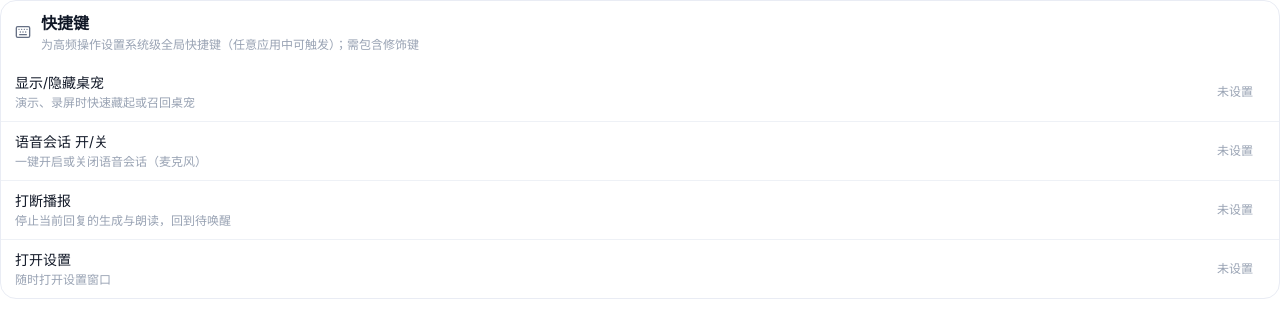
Scenario: ShortcutsSection › 录制：点击后按键组合 → 调 set_shortcut 并更新展示
Click the button with aria-label "设置 语音会话 开/关 快捷键".
click(1235, 151)  # box [1205,135,1265,167]
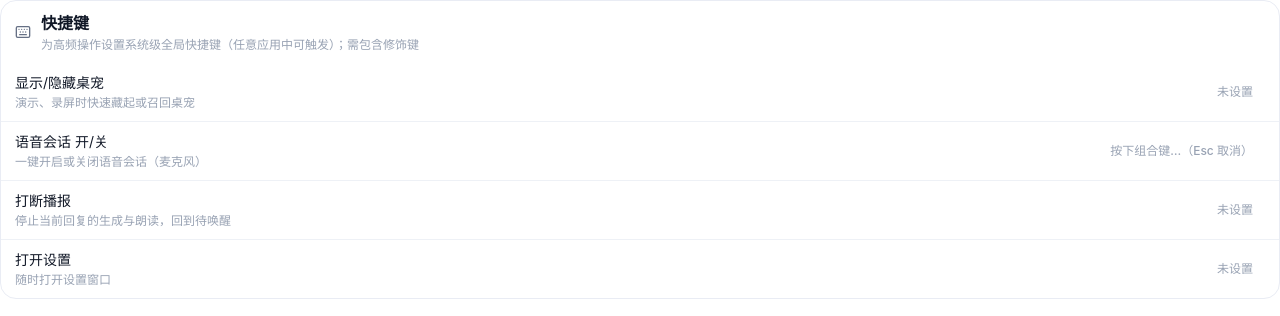
Check: the button with aria-label "设置 语音会话 开/关 快捷键" shows "按下组合键", box [1098,135,1265,167]
Press KeyV
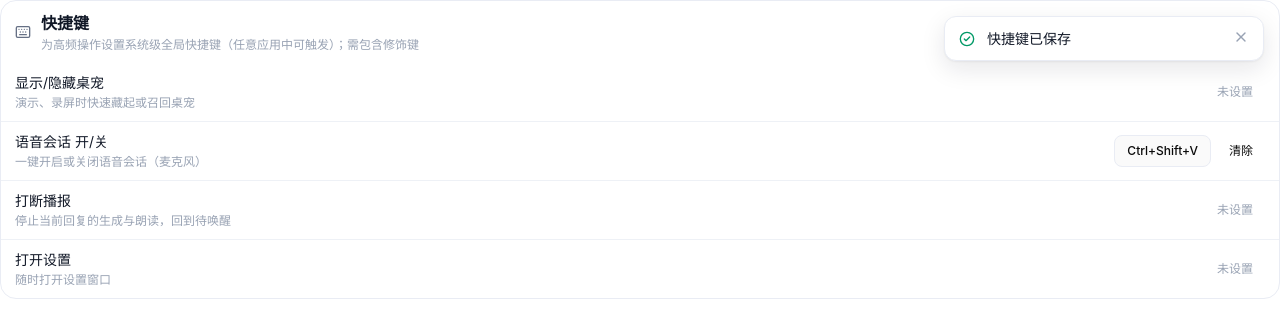
Check: the button with aria-label "设置 语音会话 开/关 快捷键" shows "V", box [1114,135,1211,167]
